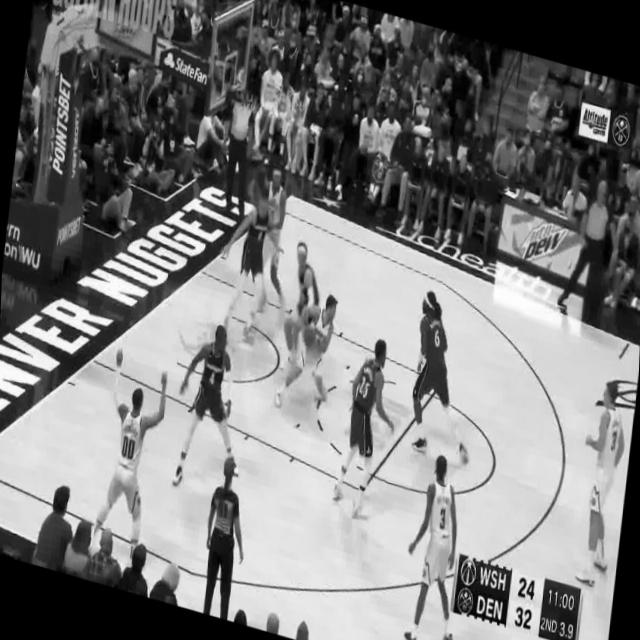ball-handler: (270, 284, 346, 420)
